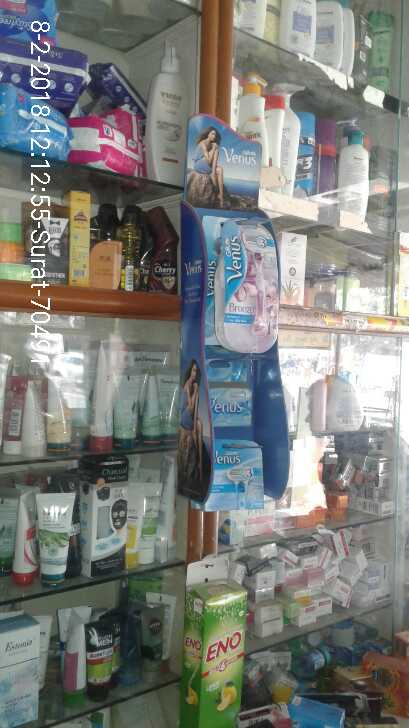venus: (209, 208, 285, 355), (209, 436, 270, 514), (205, 383, 250, 432)
